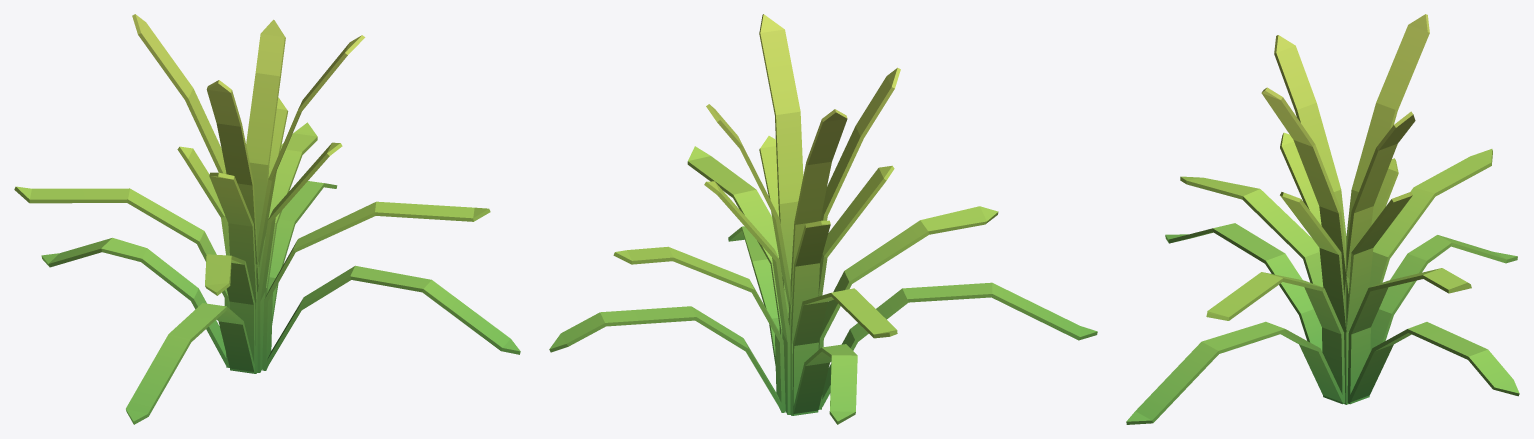
File: Plant_3.fbx
3 renders of one model, left to right at view 1: azimuth 30°, elevation 25°; view 2: azimuth 150°, elevation 25°; view 3: azimuth 270°, elevation 25°, orthographic.
Visible parts, largest first — view 1: Plant_3; view 2: Plant_3; view 3: Plant_3.
Boxes of the visible parts, bbox=[...] form: Plant_3: bbox=[14, 14, 520, 424]; Plant_3: bbox=[549, 14, 1097, 424]; Plant_3: bbox=[1126, 14, 1519, 424].
Size of the model in its own units: 1.09 by 0.9437 by 0.9724.
